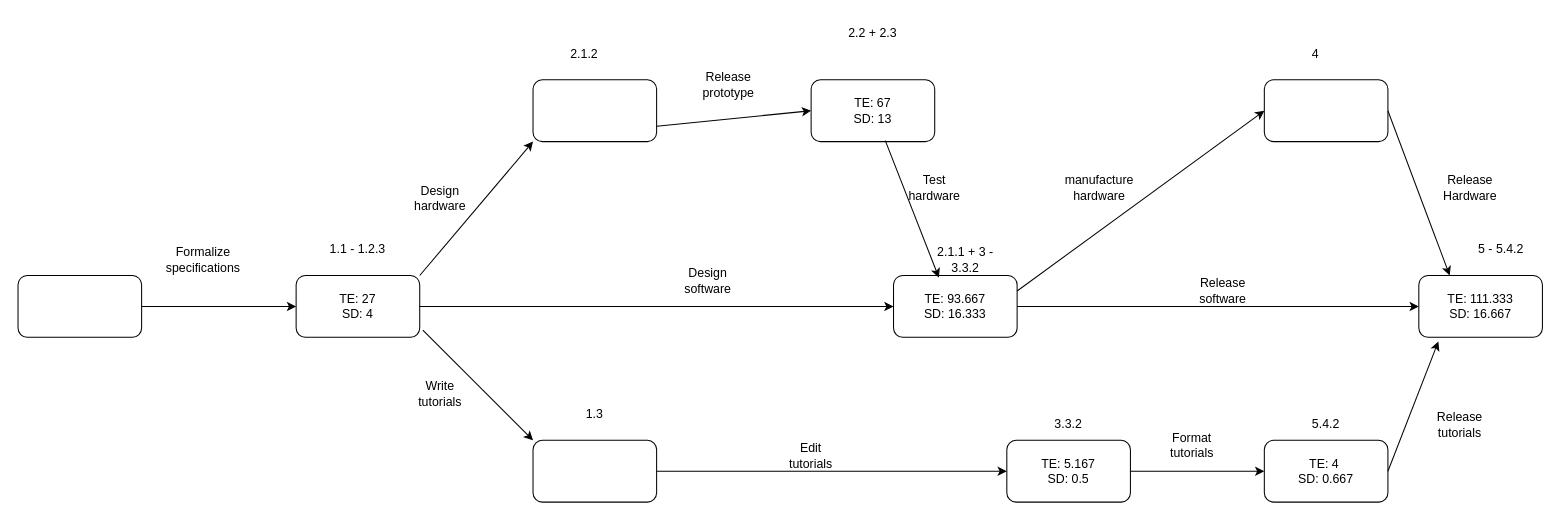
This 1560x520 diagram has some shape labels left out. The centre of each missing label's shape, as x and y in pixels:
TE: 13.5 SD: 2.833: (x=594, y=470)
TE: 34.167 SD: 5.833: (x=594, y=110)
TE: 9.5 SD: 0.333: (x=1325, y=110)
